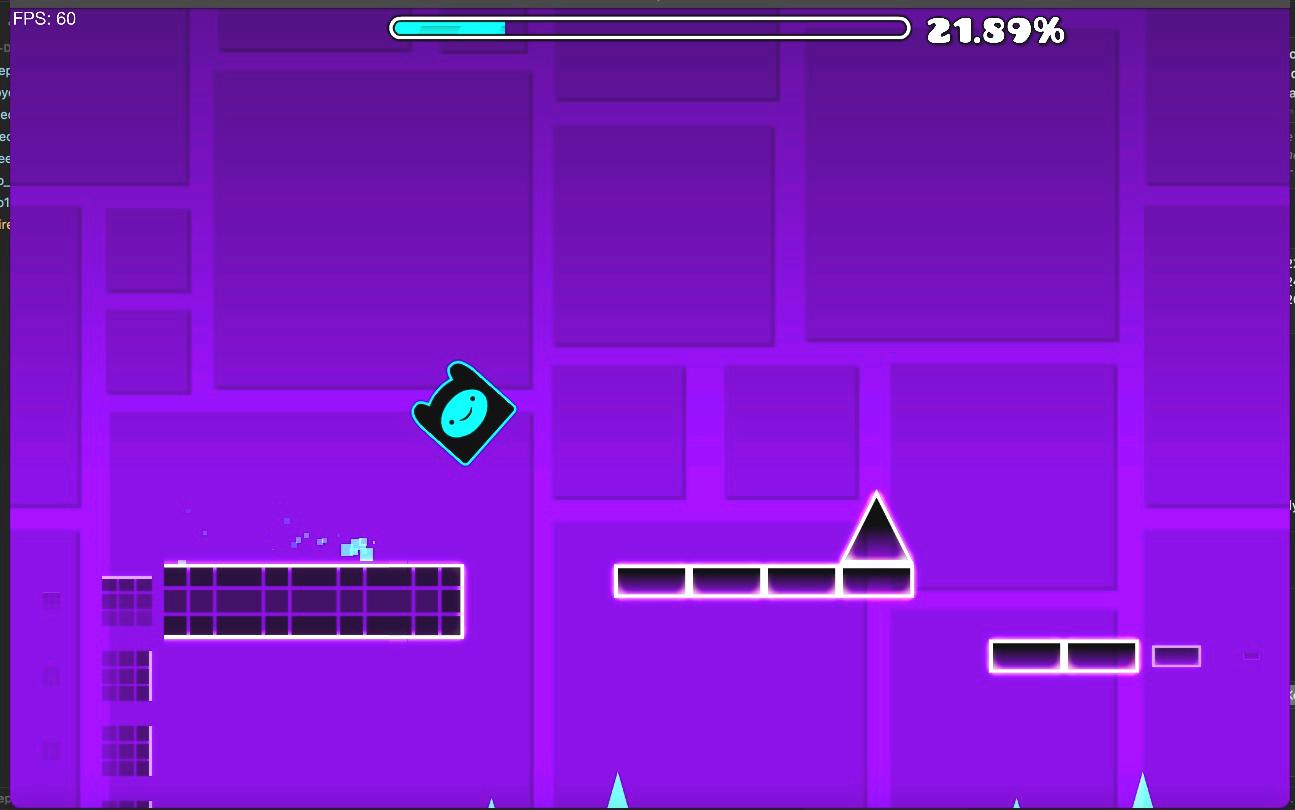block: (164, 563, 462, 642)
platform: (616, 567, 913, 595), (991, 640, 1137, 674)
player: (412, 362, 515, 464)
spike: (843, 494, 909, 562), (597, 773, 628, 806), (1134, 774, 1153, 807), (555, 797, 599, 806), (638, 801, 651, 806)
